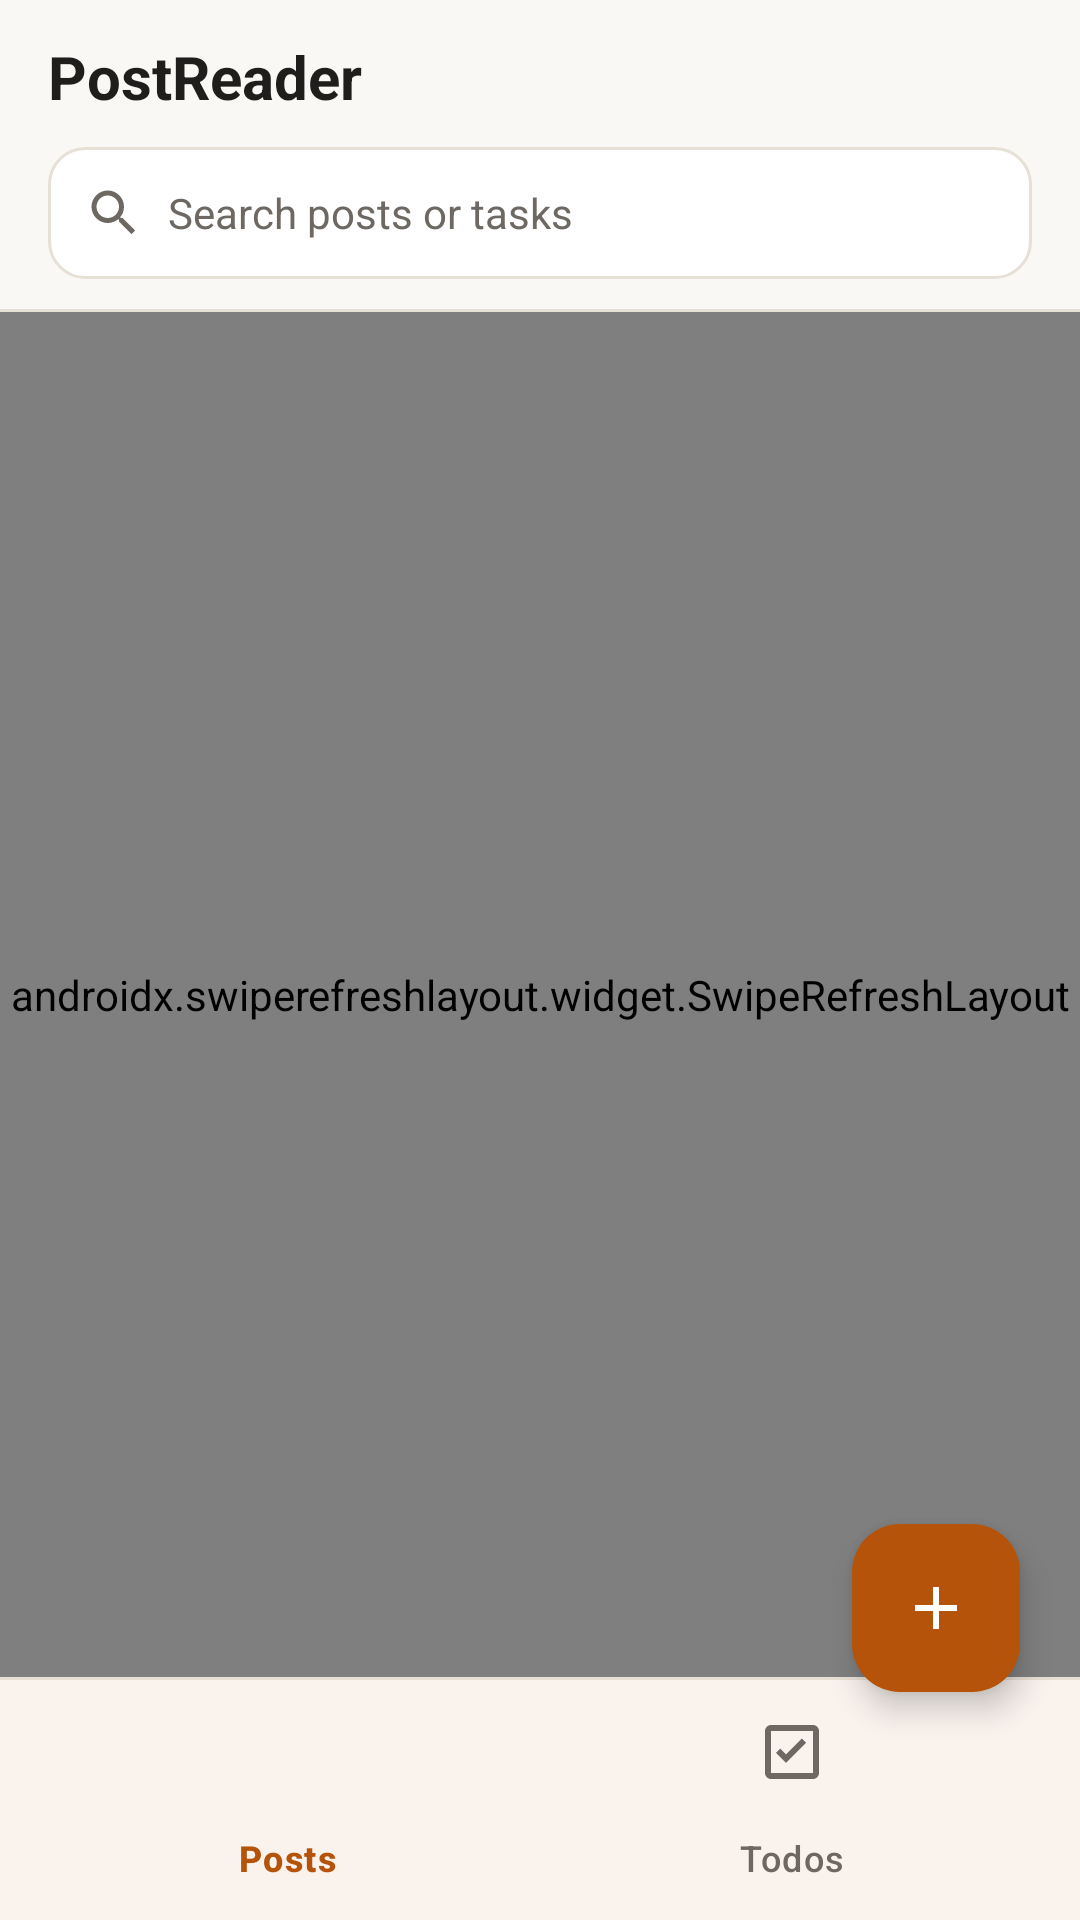

Named icons in this screenshot (1080 × 1920) and their bounding boxes, [x1=x1, y1=y1, x2=x2, y2=y2]:
New Post: [x1=852, y1=1524, x2=1020, y2=1692]
